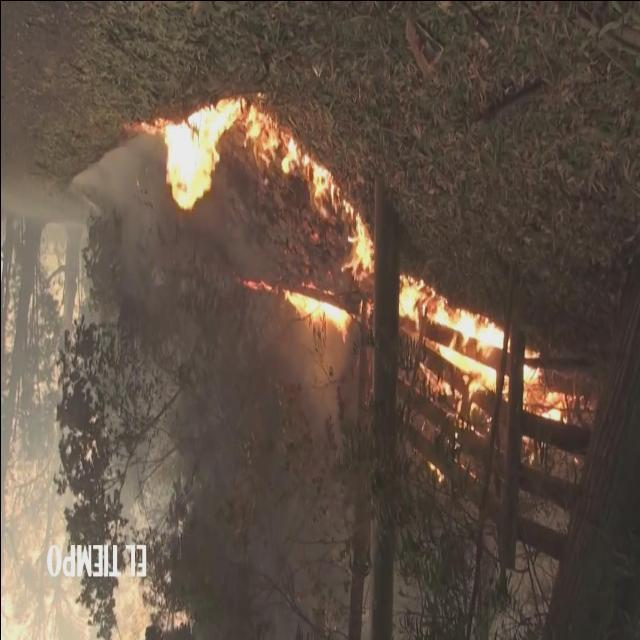Fire: (158, 100, 336, 216), (396, 278, 499, 410), (521, 348, 569, 428), (283, 289, 353, 339), (340, 201, 372, 288), (239, 274, 271, 298), (426, 459, 445, 489), (522, 432, 534, 467)
